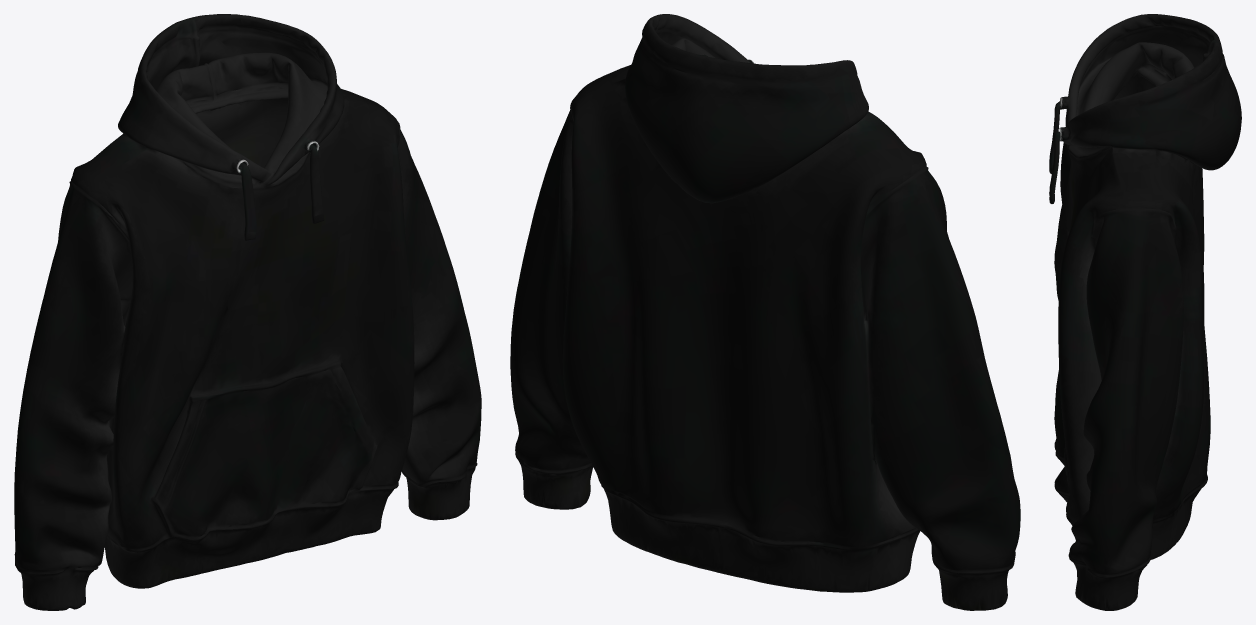
The model's file is hoodie.glb.
The picture shows the model from 3 angles, left to right: view 1: azimuth 30°, elevation 25°; view 2: azimuth 150°, elevation 25°; view 3: azimuth 270°, elevation 25°; orthographic projection. The views are drawn at different scales.
Visible parts, largest first — view 1: model; view 2: model; view 3: model.
Part boxes in pixels (x1,y1,x2,y2): model: [14, 14, 481, 610]; model: [510, 14, 1020, 610]; model: [1049, 14, 1241, 610].
Bounding box in the file's own units: 1.85 × 1.9 × 0.7026.
1 material, 1 textured.
